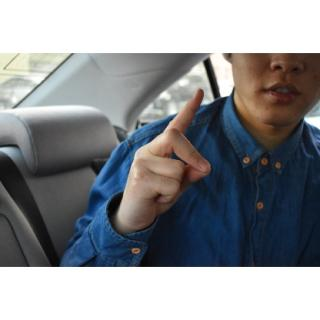TAA: (116, 85, 220, 234)
